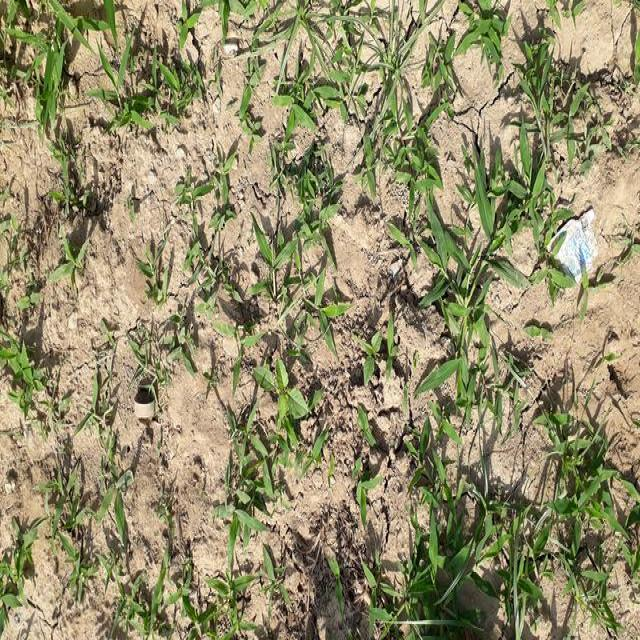weed: (367, 1, 529, 403), (397, 420, 640, 639), (212, 186, 329, 640), (212, 1, 354, 178), (0, 0, 188, 133), (536, 45, 590, 167), (1, 294, 39, 410), (345, 401, 381, 516)
